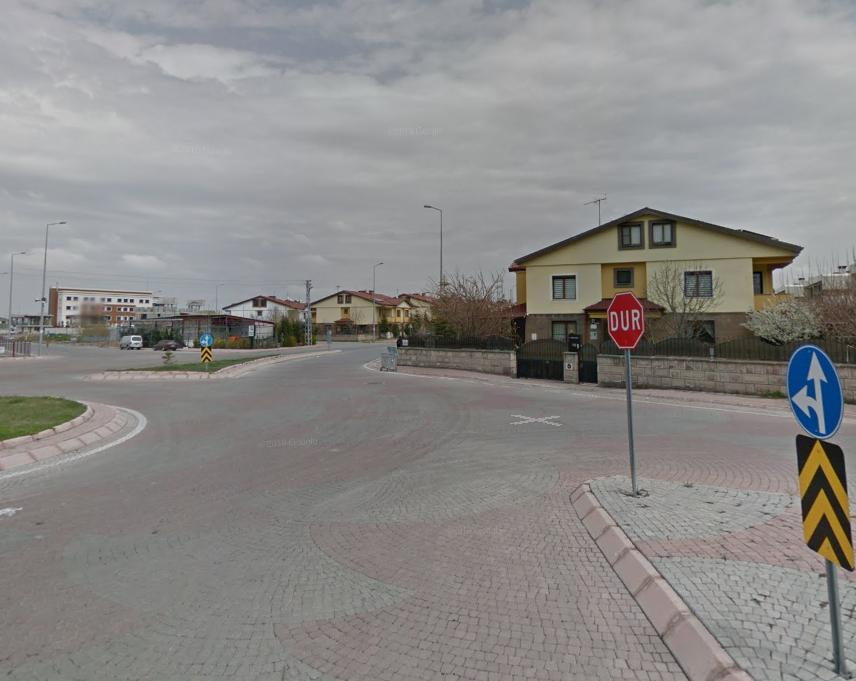stop: (607, 292, 645, 349)
